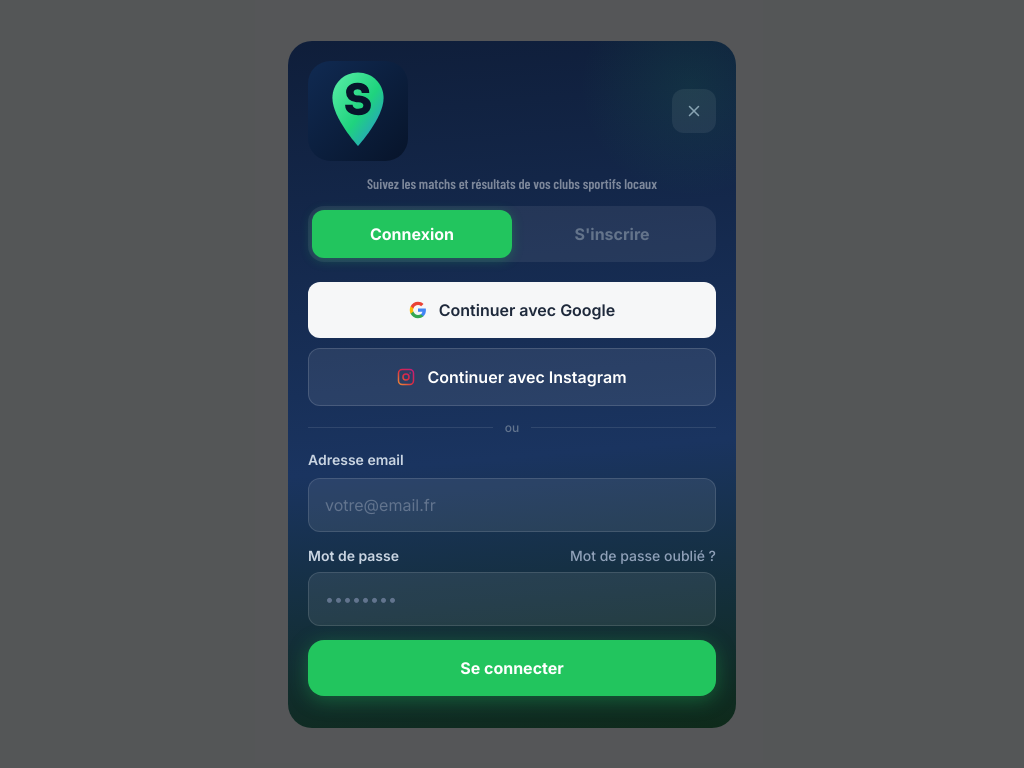
Test: AuthPage — validation register › affiche "6 caractères minimum" si mot de passe trop court
Click the button "S'inscrire".
click(612, 234)  # box [512, 210, 712, 258]
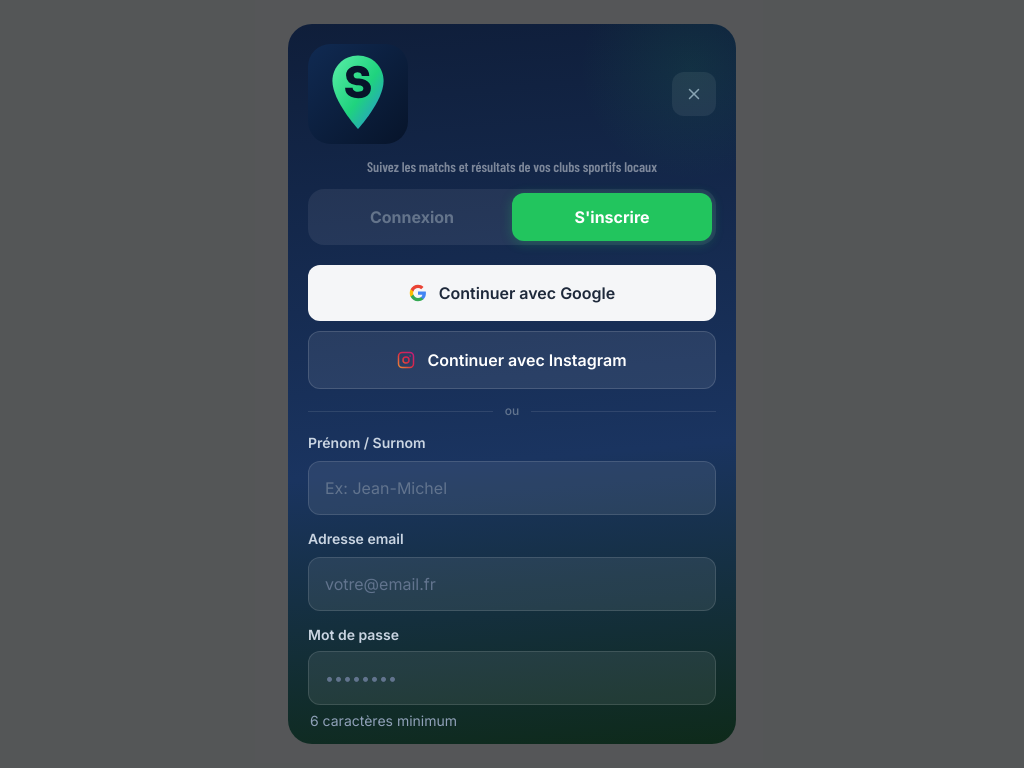
Type "Dorian" into the field with placeholder "Ex: Jean-Michel".
click(512, 488); type("Dorian")  # box [308, 461, 716, 515]
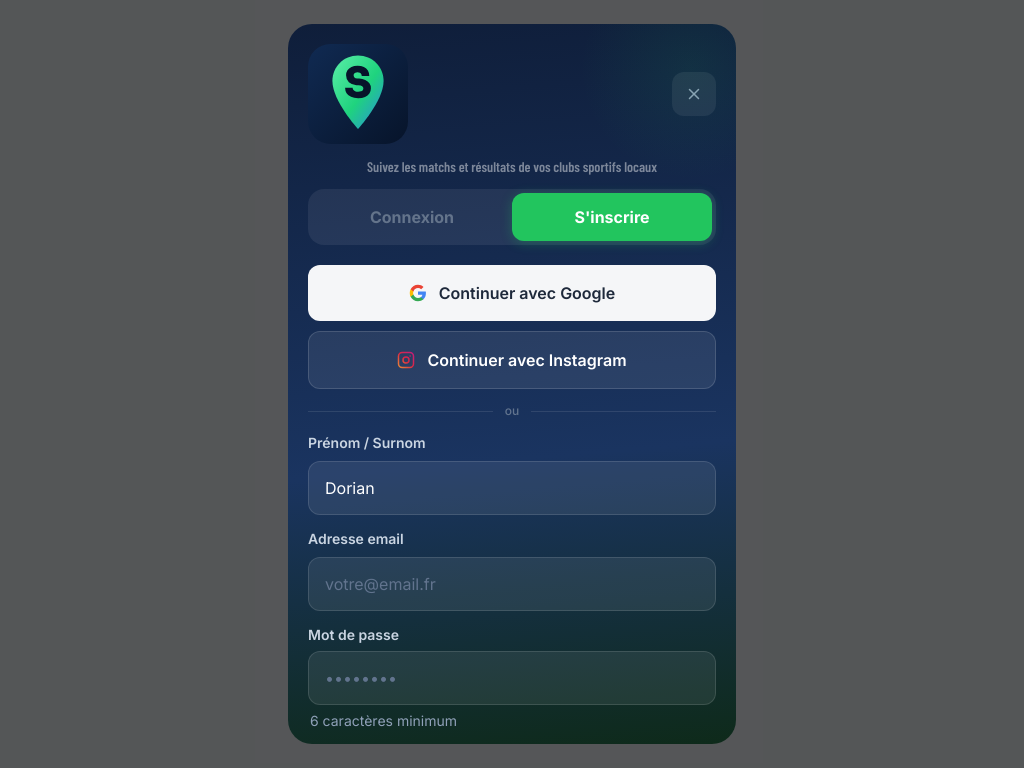
Type "test@test.com" into the field with placeholder "votre@email.fr".
click(512, 584); type("test@test.com")  # box [308, 557, 716, 611]
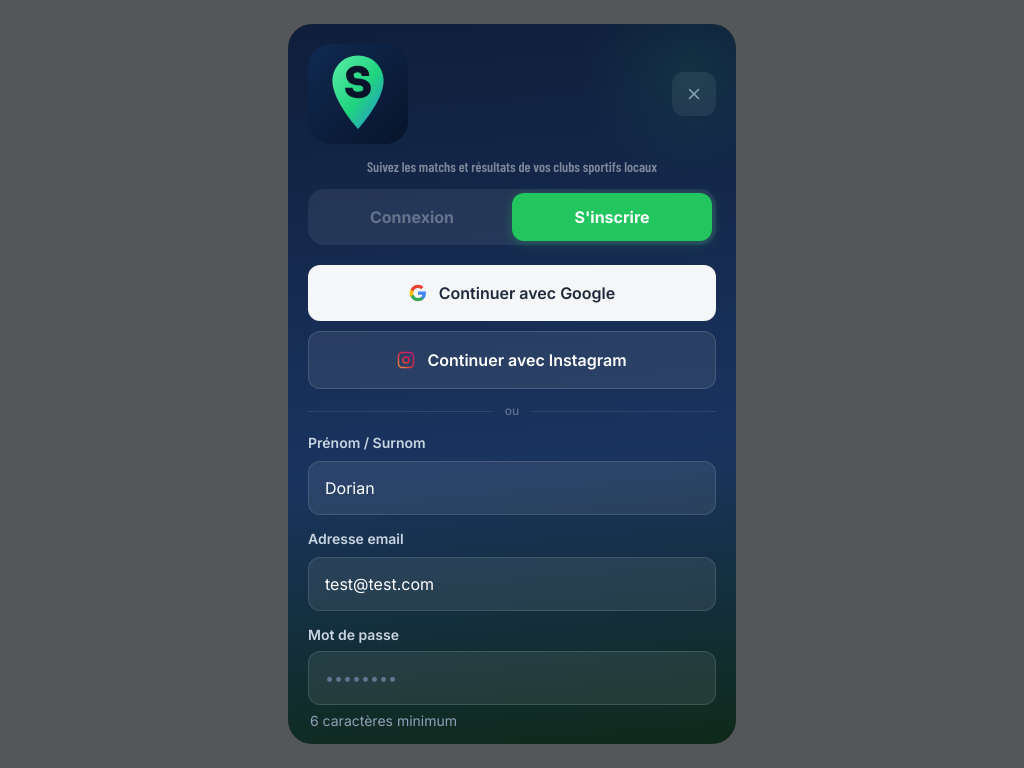
Type "abc" into the password field with placeholder "••••••••".
click(512, 678); type("abc")  # box [308, 651, 716, 705]
(page scrolled)
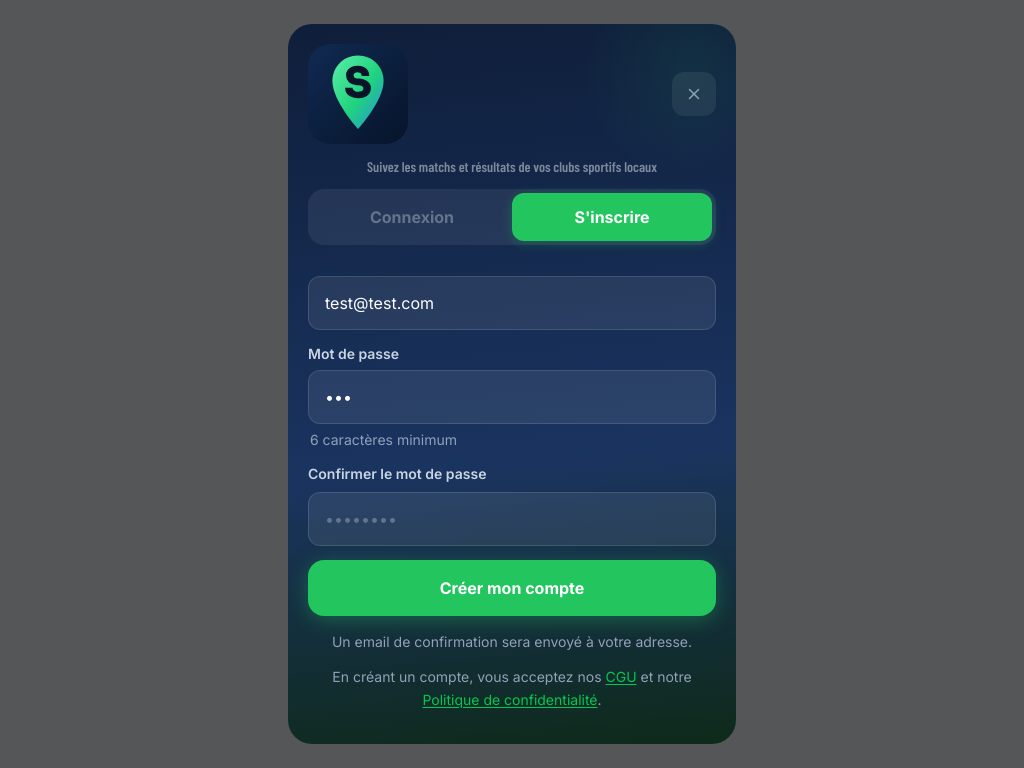
Type "abc" into the password field with placeholder "••••••••".
click(512, 519); type("abc")  # box [308, 492, 716, 546]
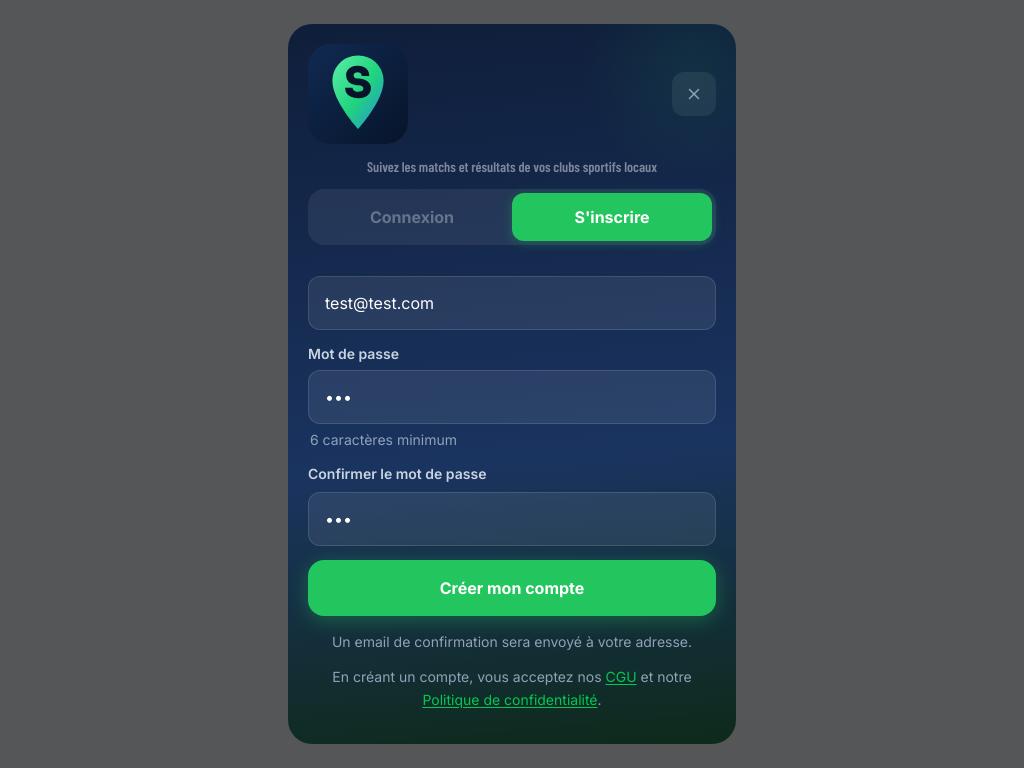
Submit the form, box [308, 152, 716, 712]
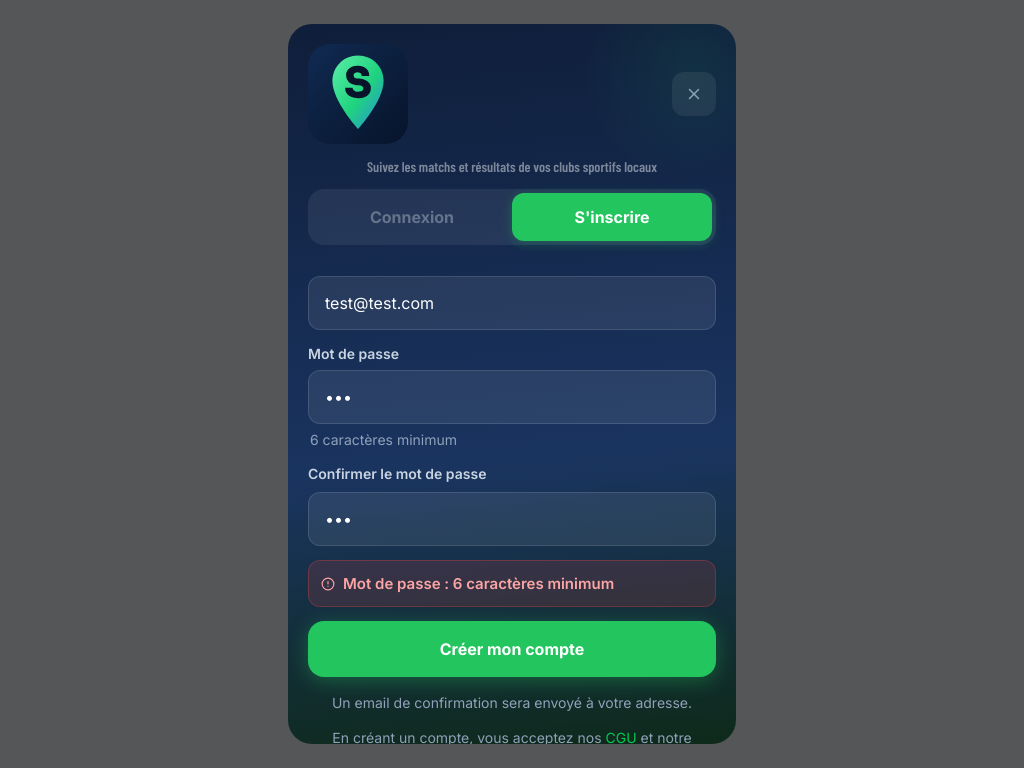
Result: the text "Mot de passe : 6 caractères minimum" is shown at [308, 560, 716, 607]
